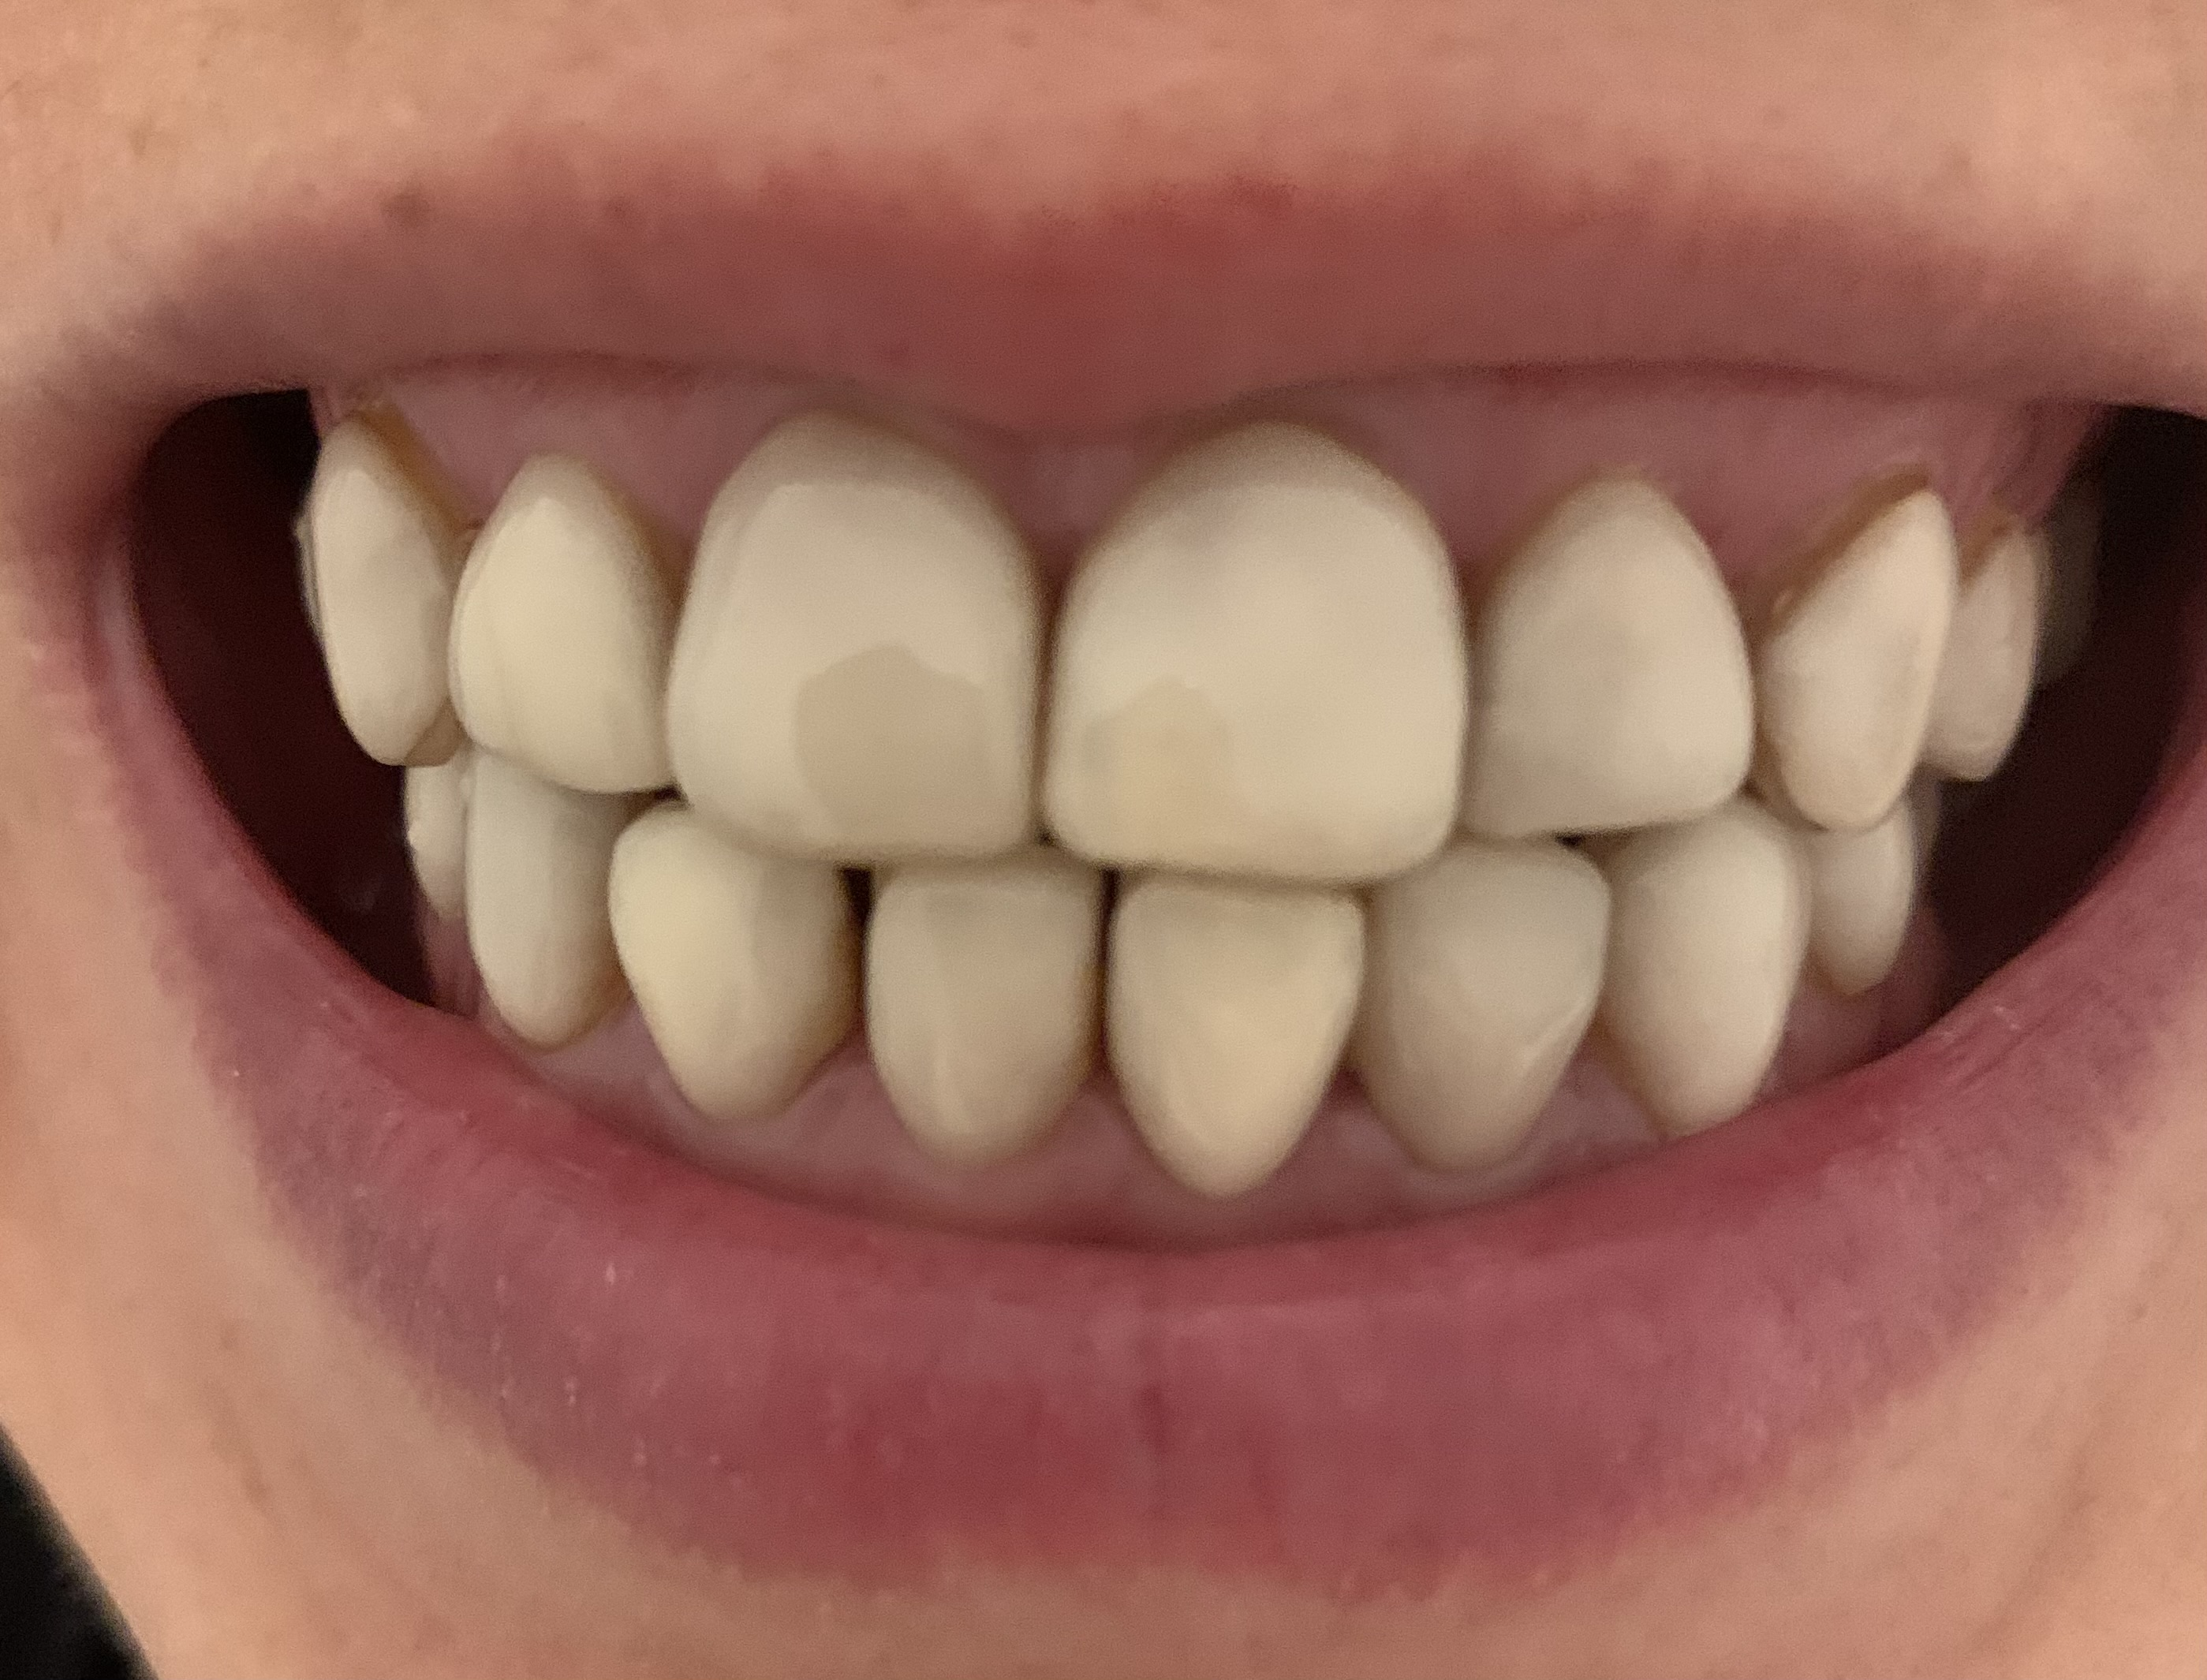teeth: (1059, 432, 1475, 861), (658, 411, 1037, 859), (1491, 480, 1750, 826), (1373, 842, 1620, 1170), (617, 815, 849, 1124), (864, 866, 1122, 1144), (450, 473, 651, 791), (1122, 895, 1346, 1175), (1775, 512, 1948, 844), (1628, 819, 1801, 1119), (286, 438, 438, 768), (485, 768, 616, 1036), (1948, 533, 2039, 766), (1814, 799, 1919, 992), (406, 754, 459, 935)
